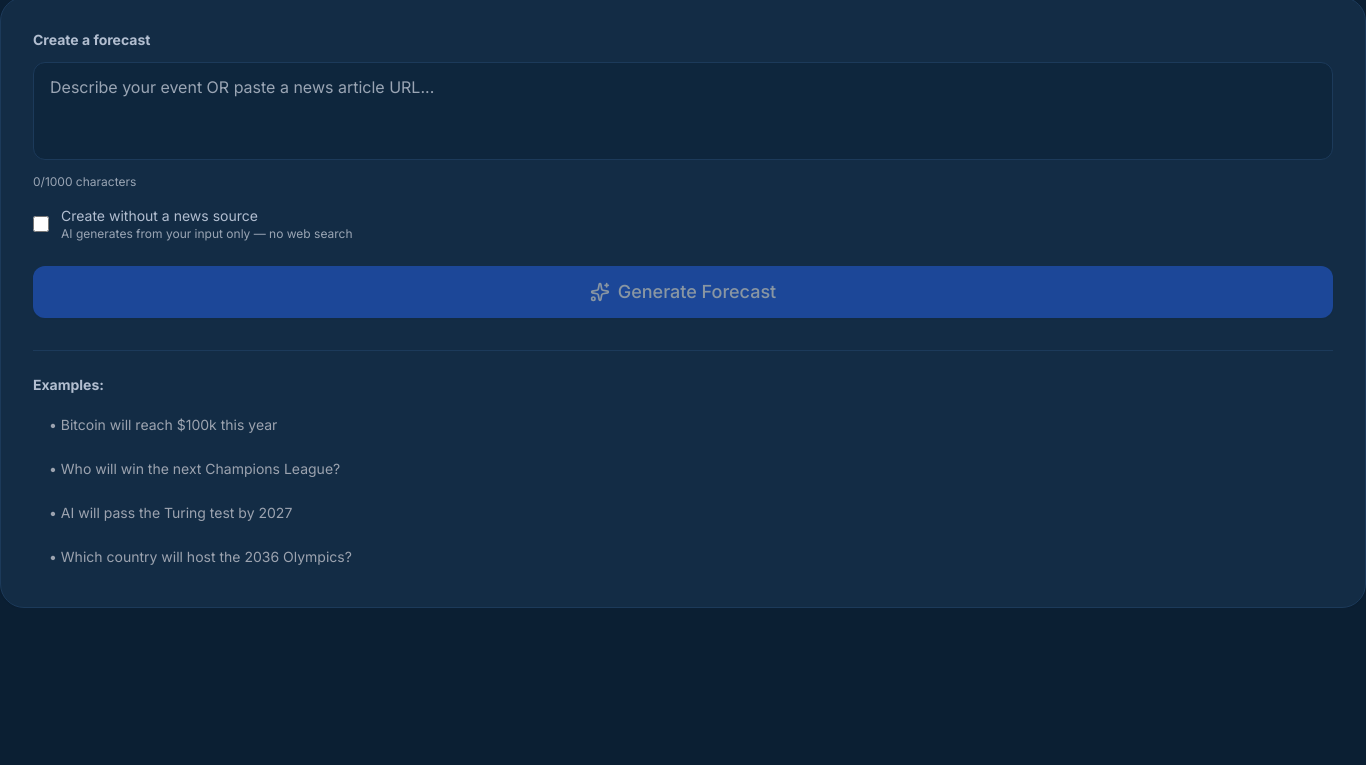
Test case: ExpressForecastClient › handleCreatePrediction (Confirm & Publish) › toggles to Unlisted when visibility button is clicked
Step 1. Type "Bitcoin will reach $100k this year" into the text box with placeholder "Describe your event OR paste a news article URL..." → x=683, y=111, box [33,62,1333,160]
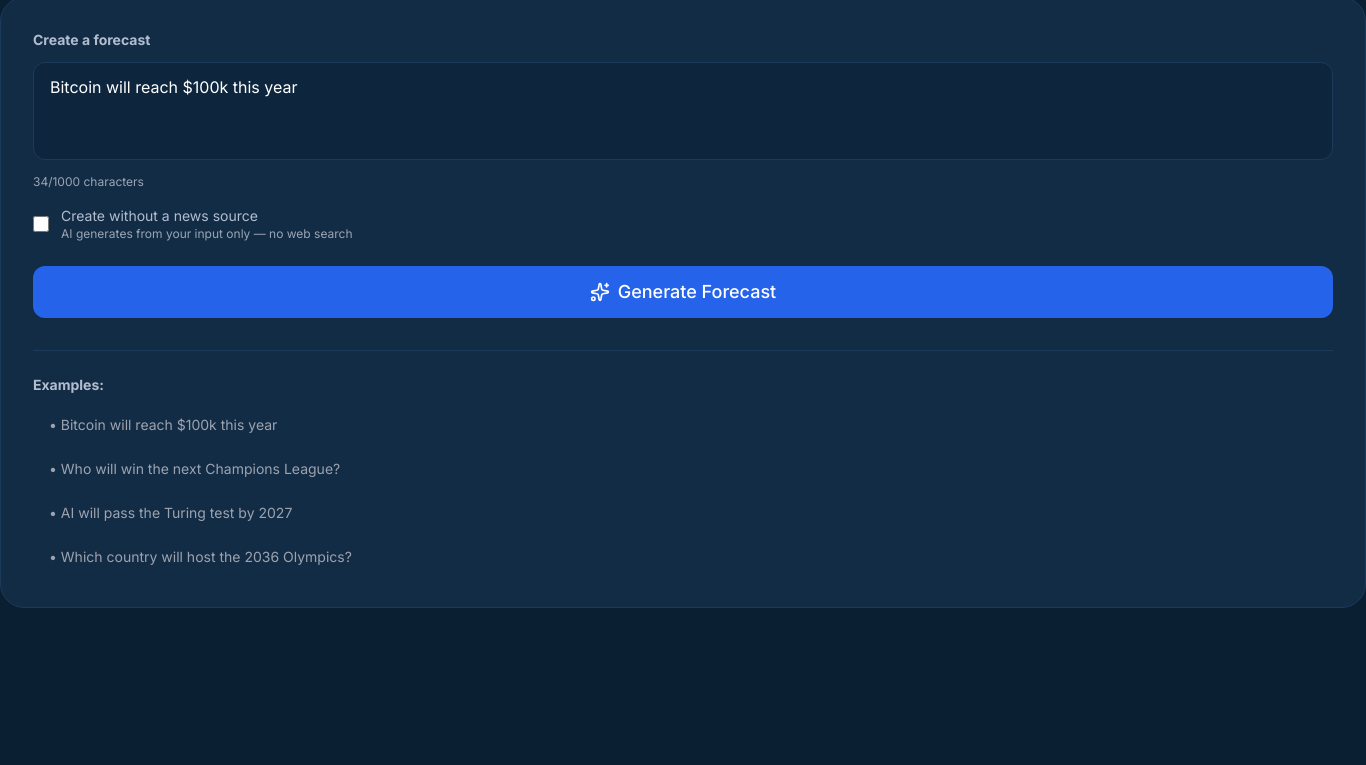
Step 2. Click the button "Generate Forecast" → x=683, y=292, box [33,266,1333,318]
(page scrolled)
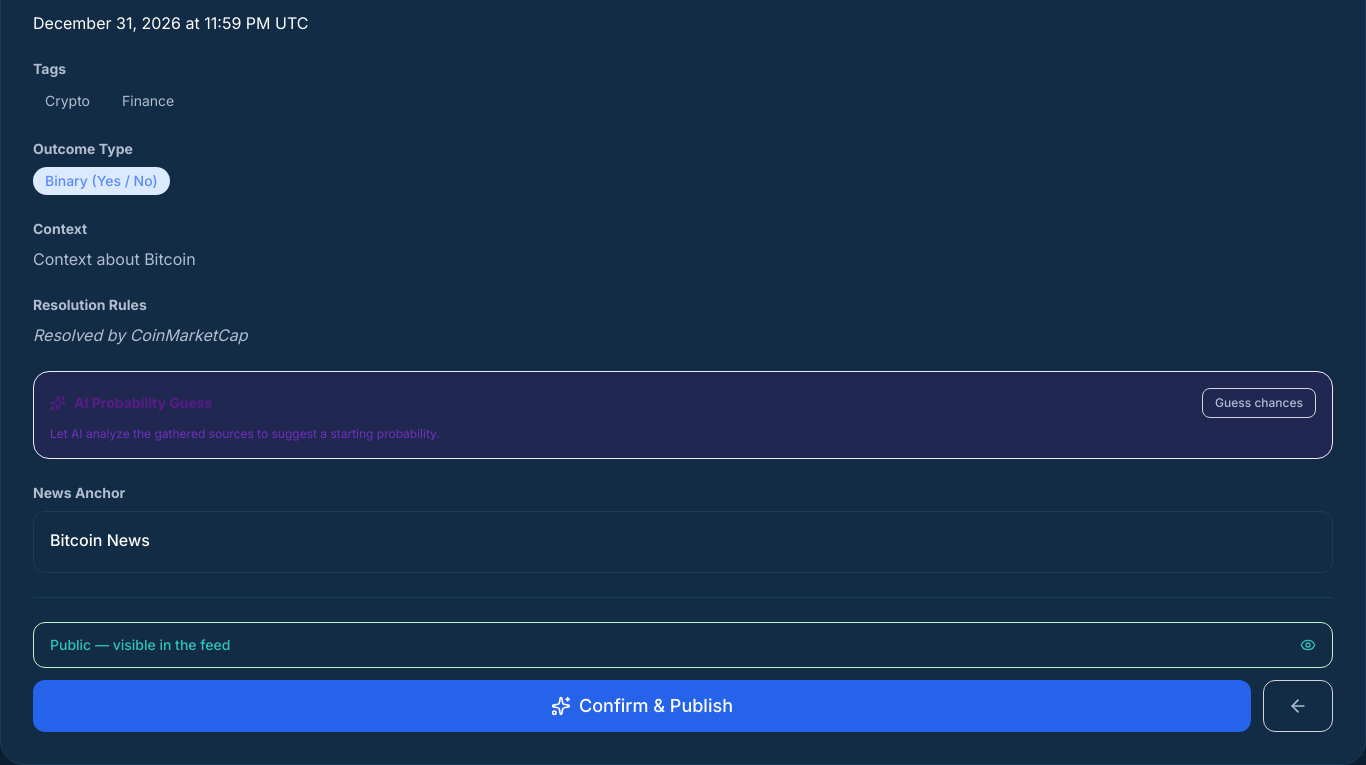
Step 3. Click the button "Public — visible in the feed" → x=140, y=644, box [33,622,1333,668]
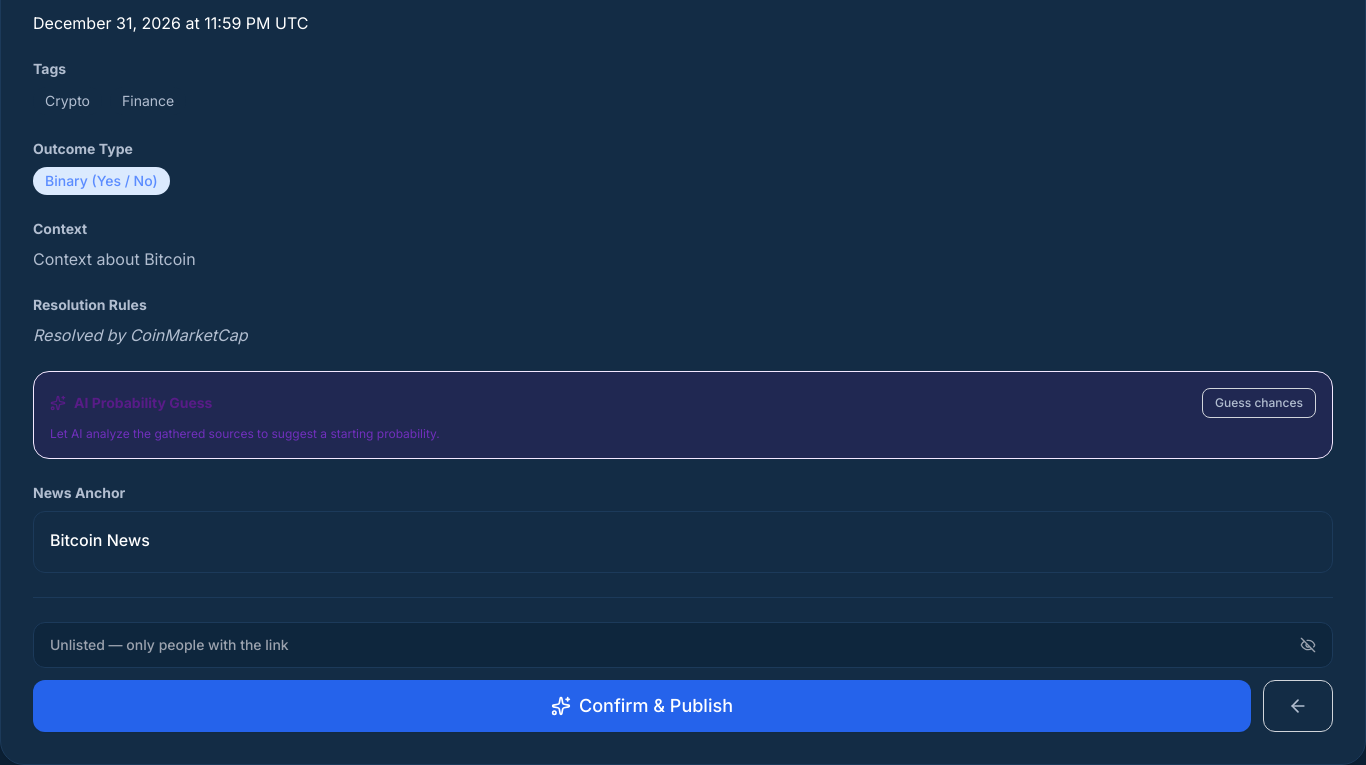
Check: the text "Unlisted — only people with the link" is shown, box [50,635,289,655]
